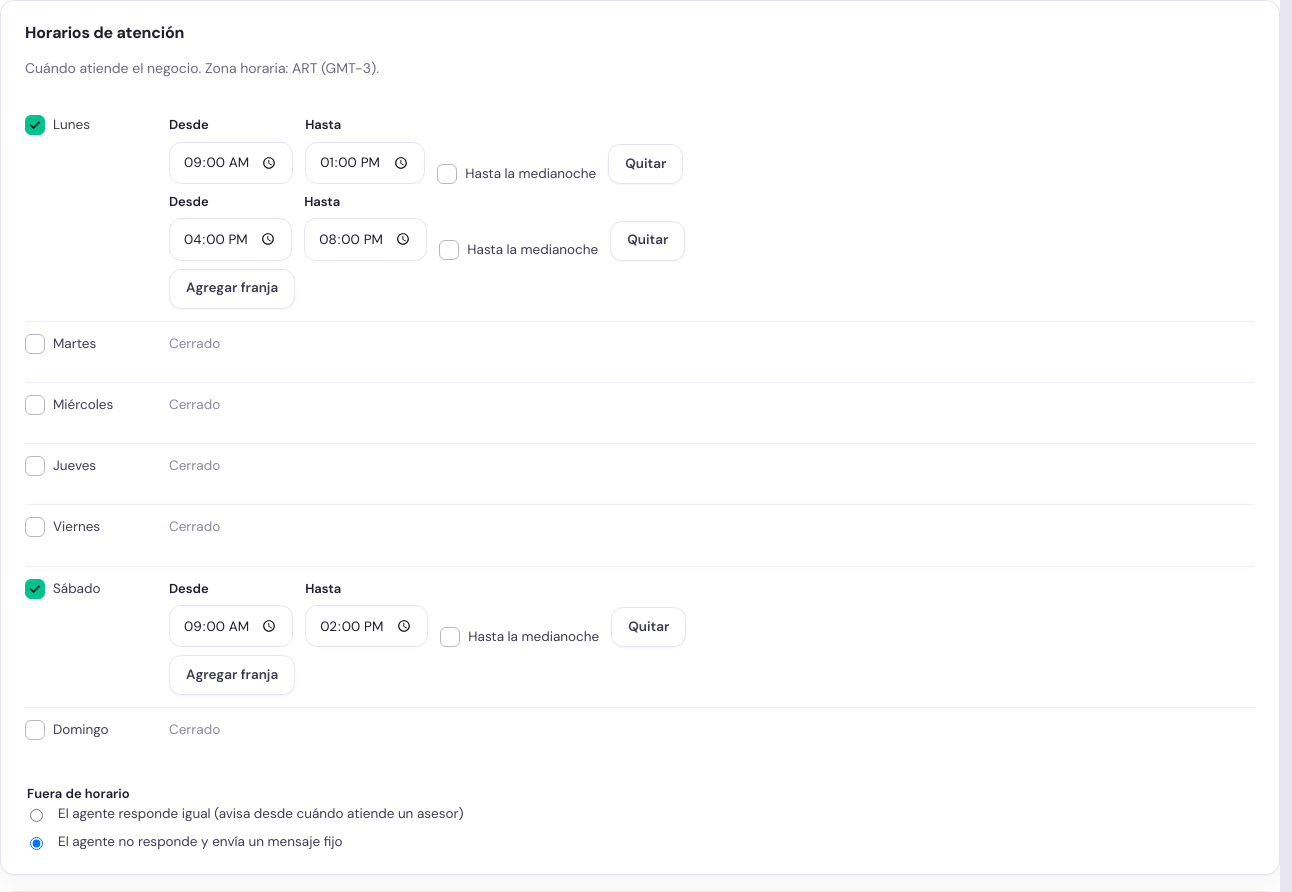
Scenario: guardar › manda el PUT con las franjas ordenadas por «desde», las fechas y la política
Replace the text in the time field named "Desde (Lunes, franja 2)" with "06:00" at (231, 240), box [169,218,292,261]
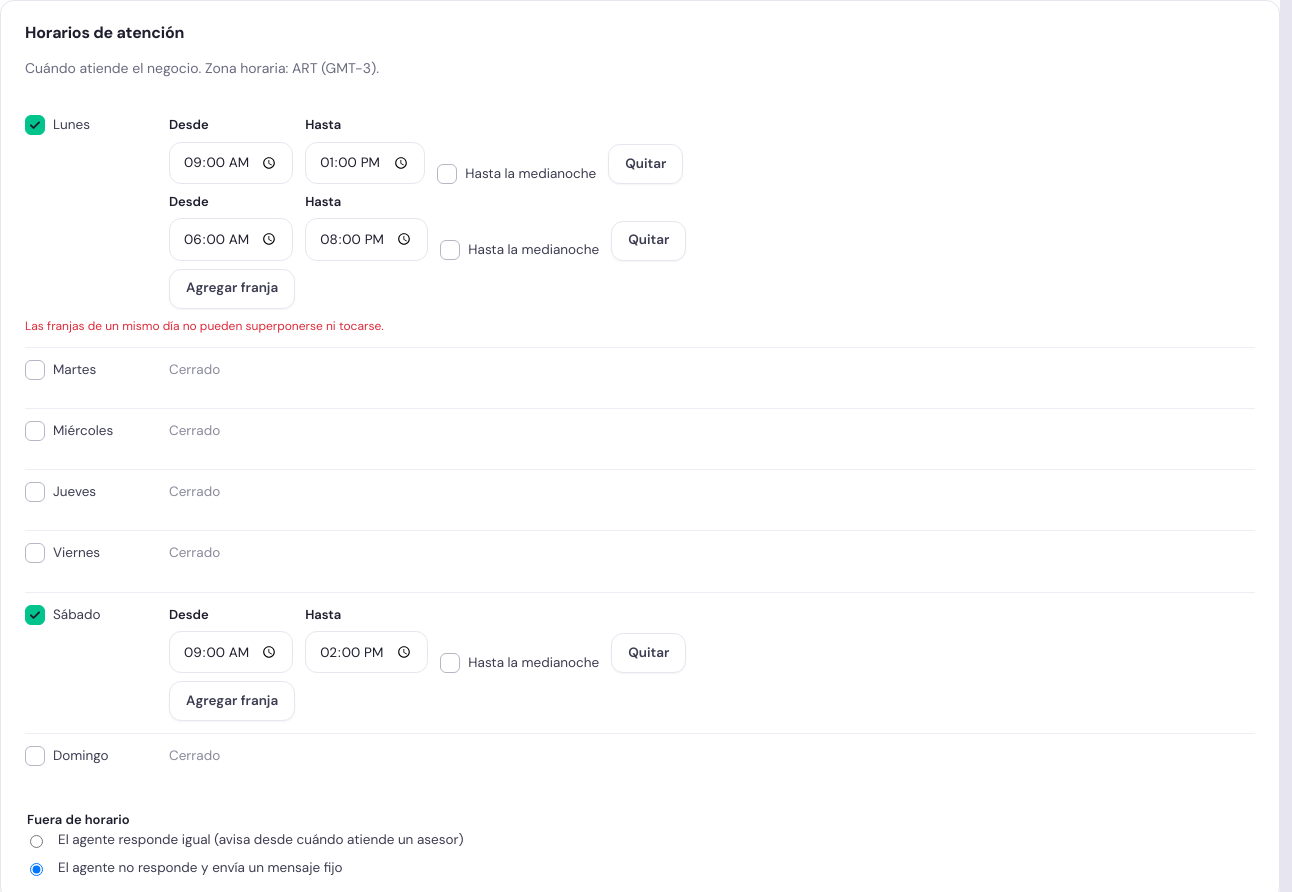
Replace the text in the time field named "Hasta (Lunes, franja 2)" with "08:00" at (367, 240), box [305,218,428,261]
(page scrolled)
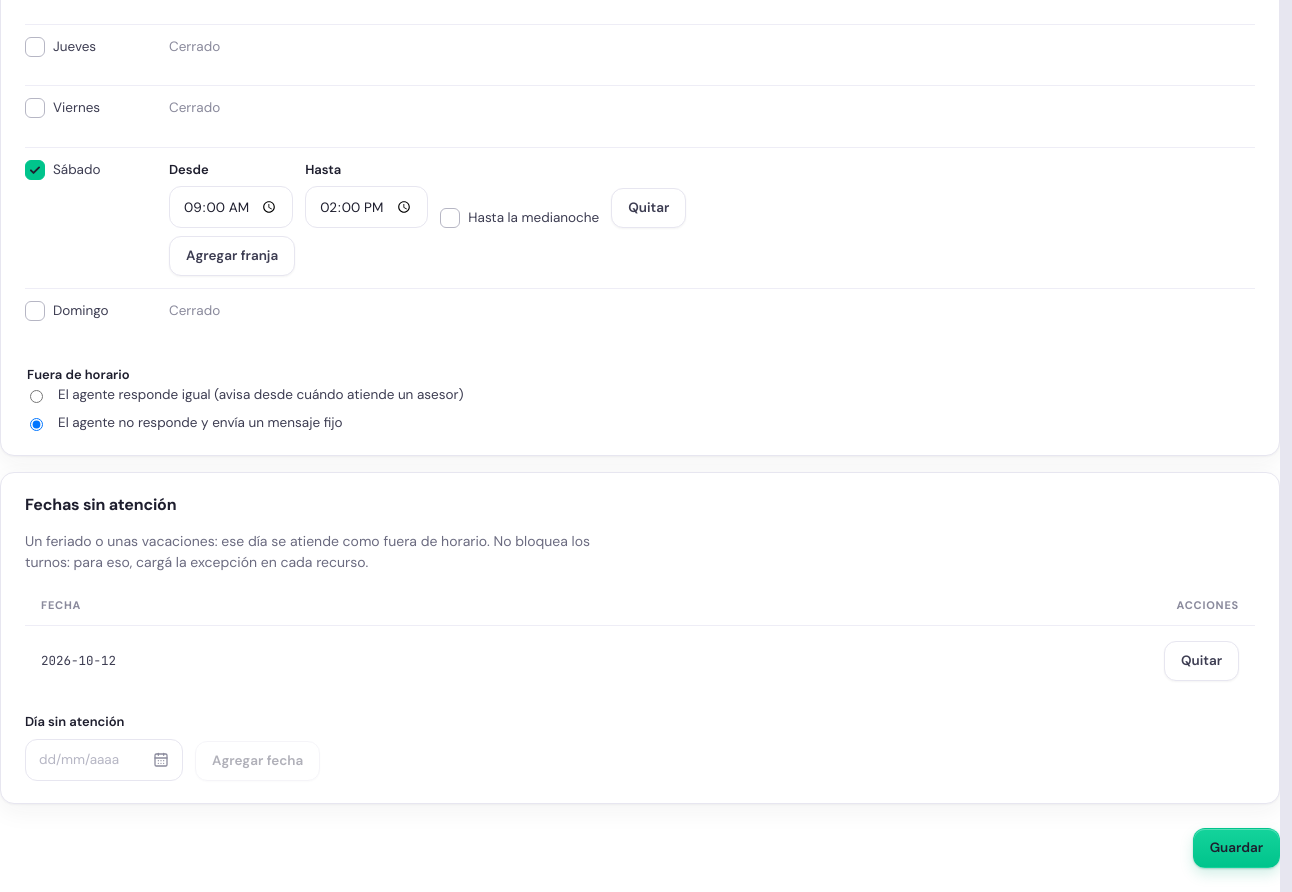
Click the button "Guardar" at (1236, 848), box [1193,828,1280,868]
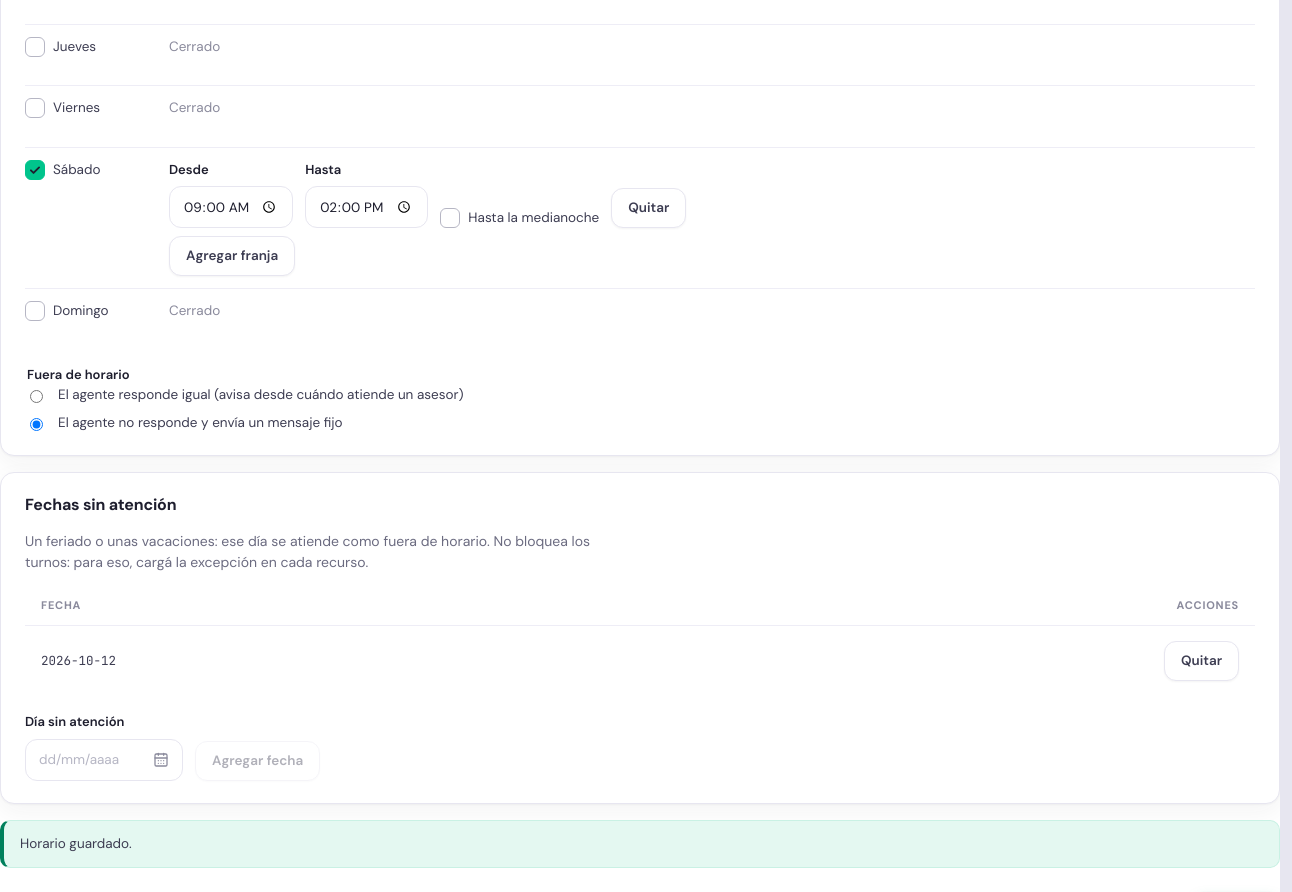
expect the text "Horario guardado." is shown: met, box [0,820,1280,868]
